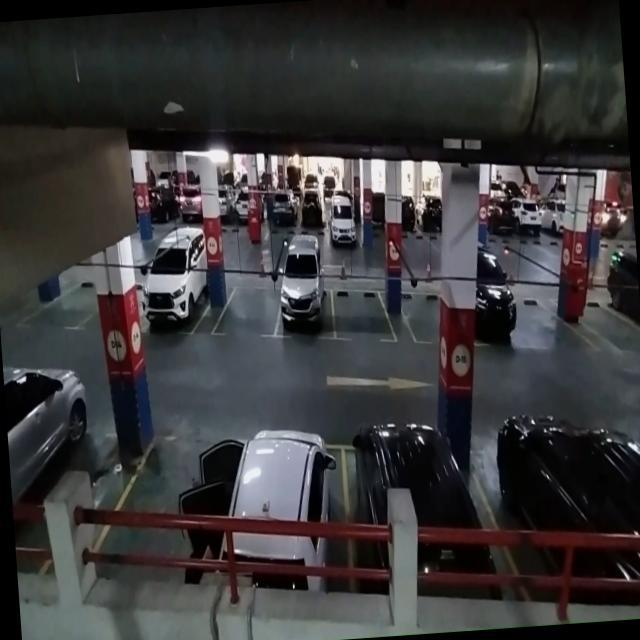empty: (101, 430, 236, 588), (207, 280, 282, 342), (330, 284, 398, 346), (399, 288, 444, 347)
occupied: (342, 419, 502, 605), (212, 424, 354, 596), (137, 234, 212, 338), (270, 250, 336, 344)
